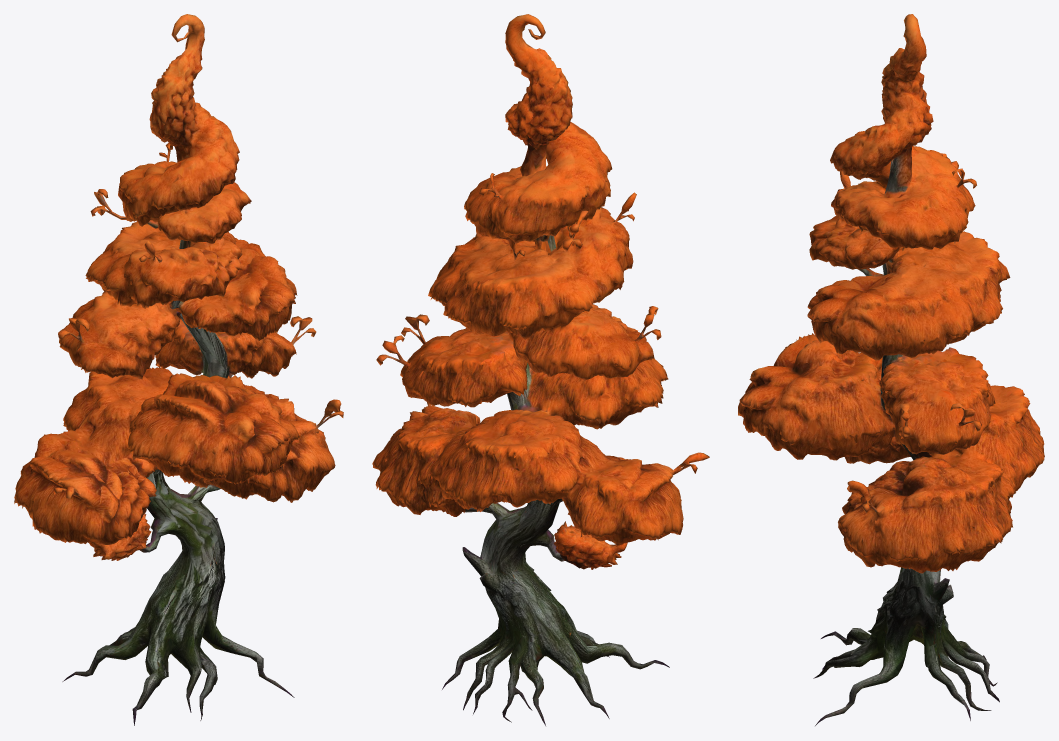
File: Copper_Cloud_Bonsai.glb
The picture shows the model from 3 angles, left to right: view 1: azimuth 30°, elevation 25°; view 2: azimuth 150°, elevation 25°; view 3: azimuth 270°, elevation 25°; orthographic projection. The views are drawn at different scales.
Parts seen in each view (by area): view 1: Copper_Cloud_Bonsai; view 2: Copper_Cloud_Bonsai; view 3: Copper_Cloud_Bonsai.
Part boxes in pixels (<box>): Copper_Cloud_Bonsai: <box>14,14,343,725</box>; Copper_Cloud_Bonsai: <box>372,14,709,725</box>; Copper_Cloud_Bonsai: <box>738,14,1044,725</box>.
Size of the model in its own units: 0.8581 by 1.89 by 0.7721.
1 material, 1 textured.
